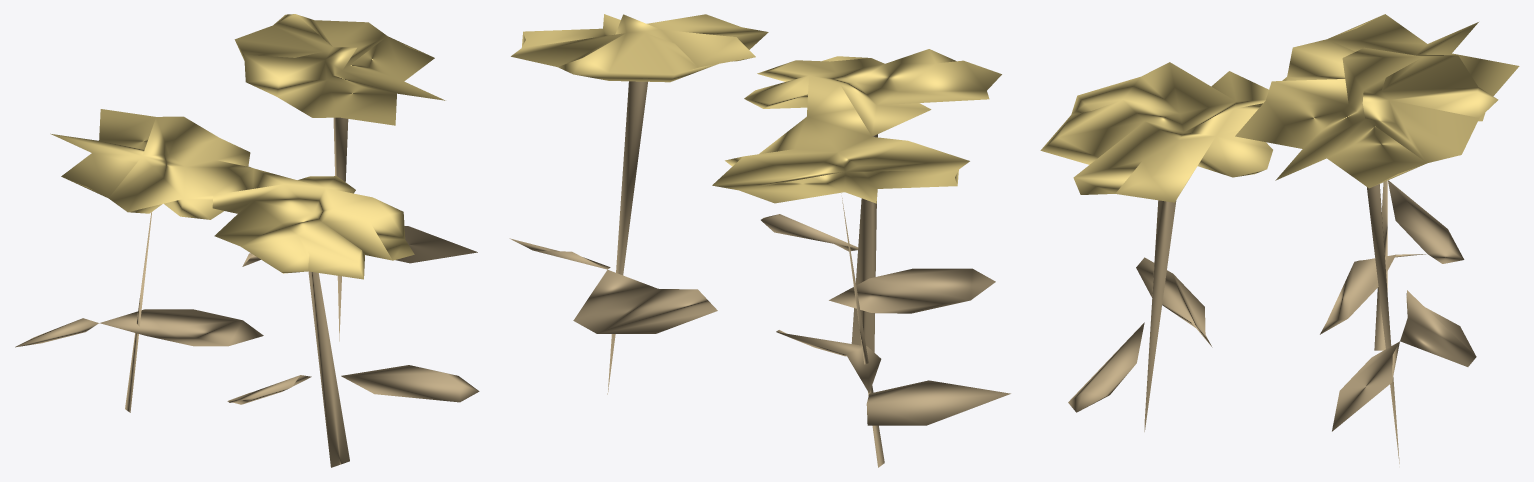
File: flower_1_autumn_low.glb
3 renders of one model, left to right at view 1: azimuth 30°, elevation 25°; view 2: azimuth 150°, elevation 25°; view 3: azimuth 270°, elevation 25°, orthographic. The views are drawn at different scales.
Size of the model in its own units: 0.5021 by 0.3559 by 0.3944.
